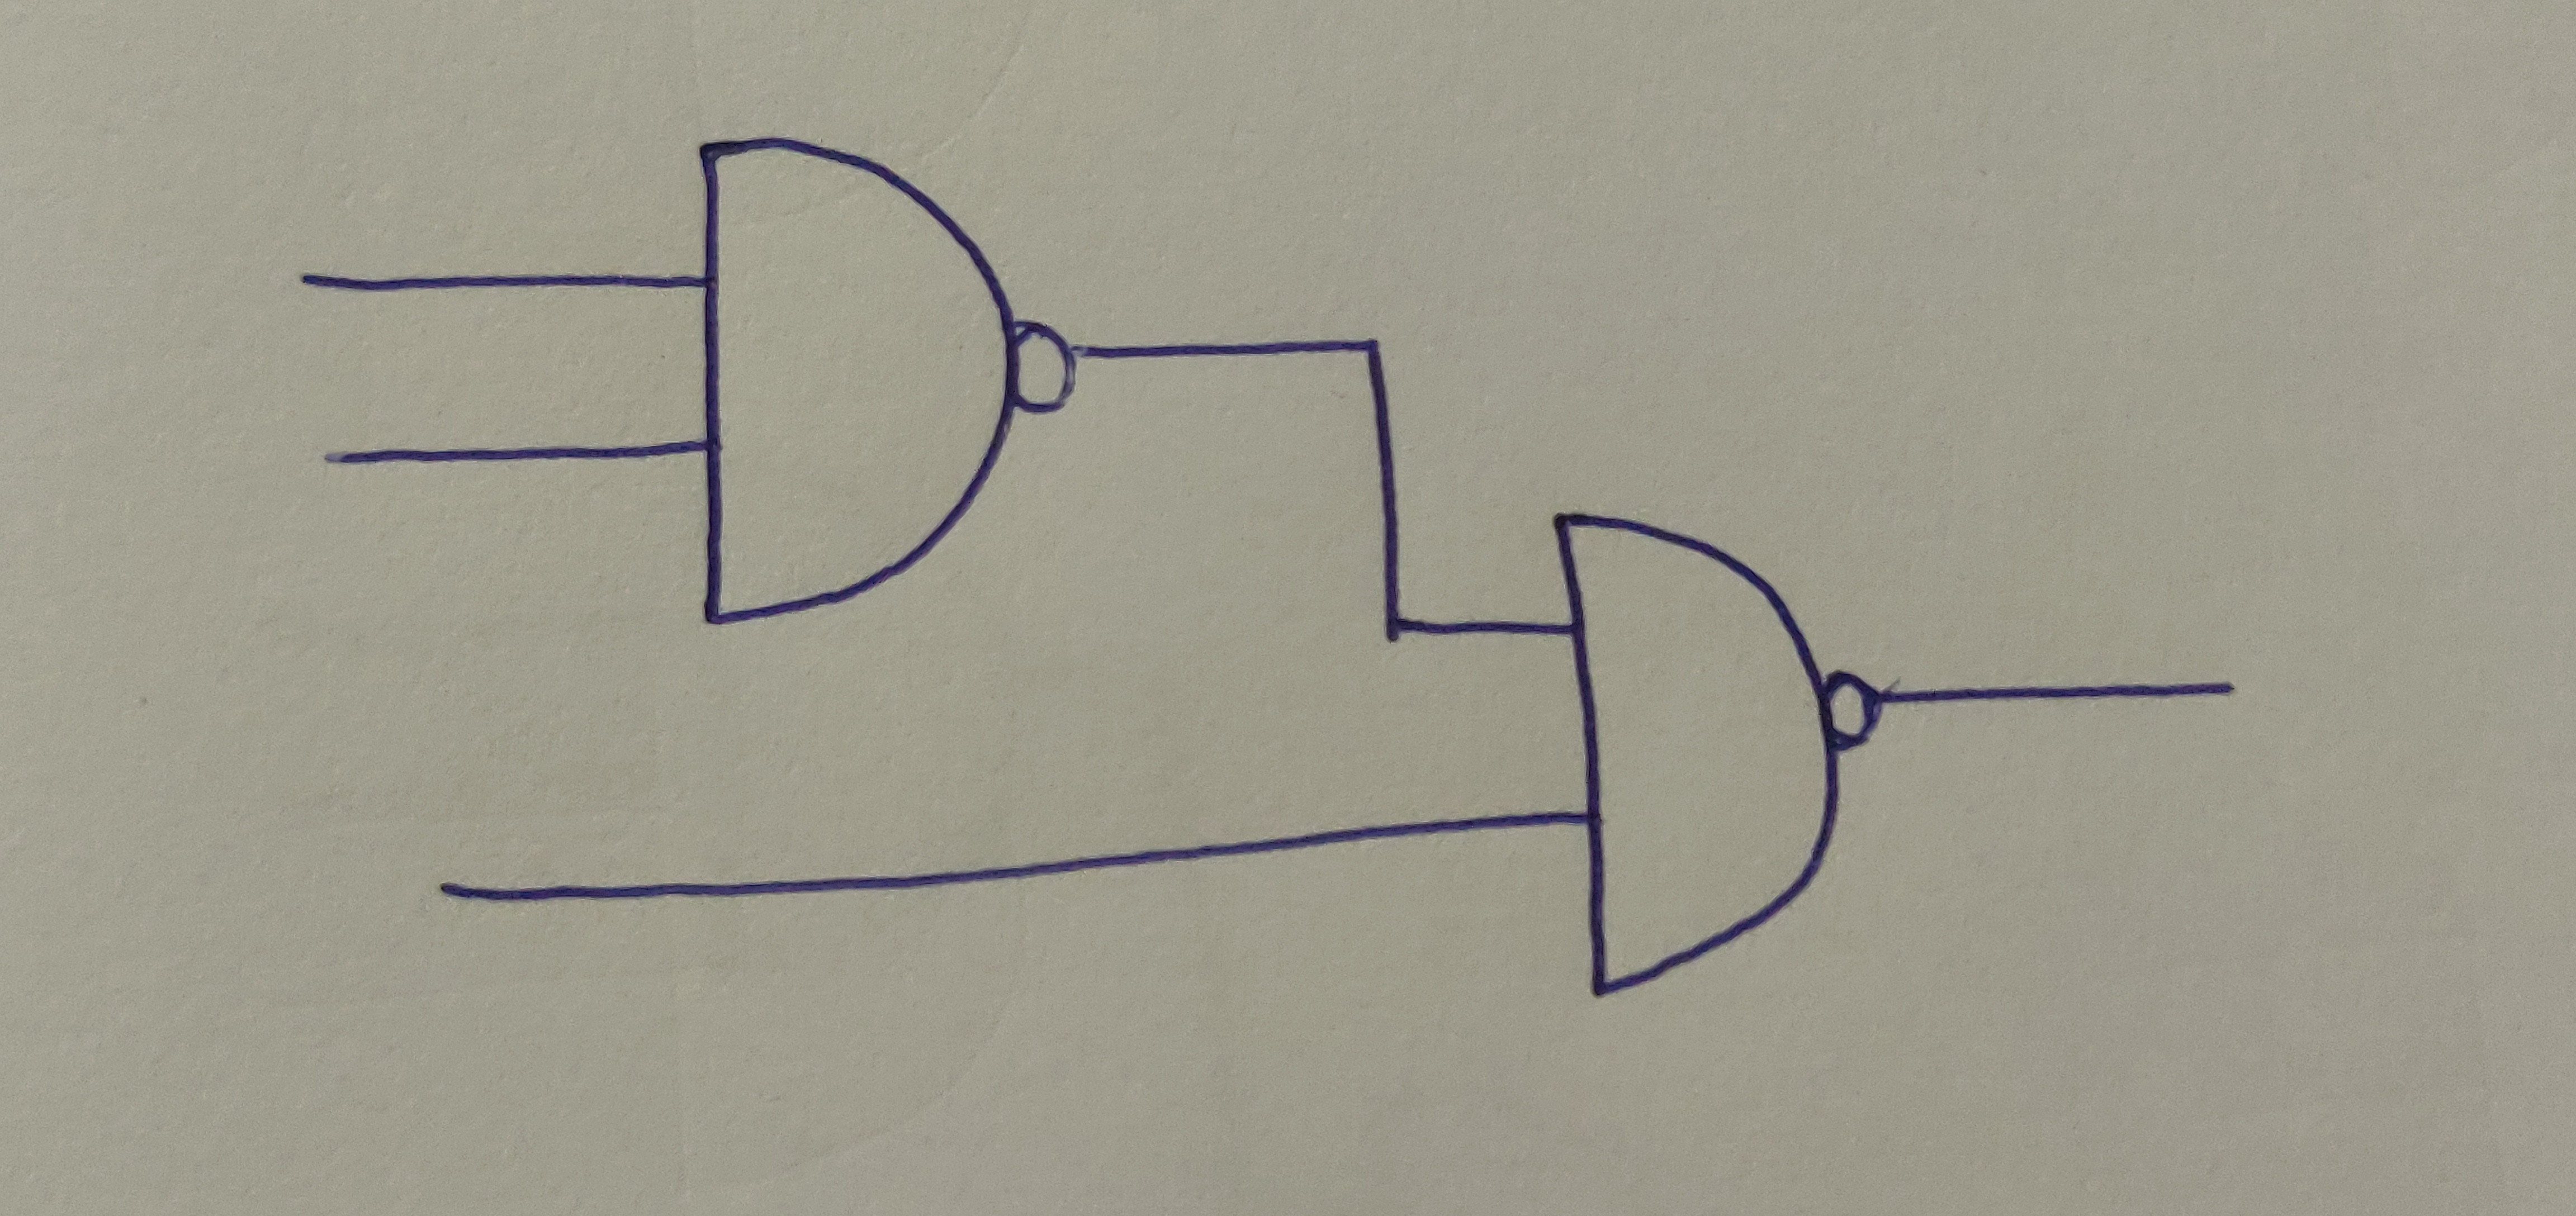and: (697, 131, 1010, 631), (1541, 501, 1840, 1001)
not: (1001, 317, 1078, 414), (1810, 669, 1889, 753)
